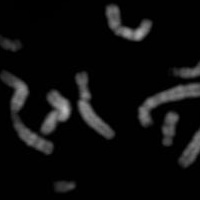chromosome: (0, 72, 53, 155), (135, 82, 200, 126), (76, 72, 115, 139), (180, 75, 200, 168), (107, 3, 150, 40), (42, 91, 72, 136), (172, 54, 200, 77), (160, 110, 177, 147)
